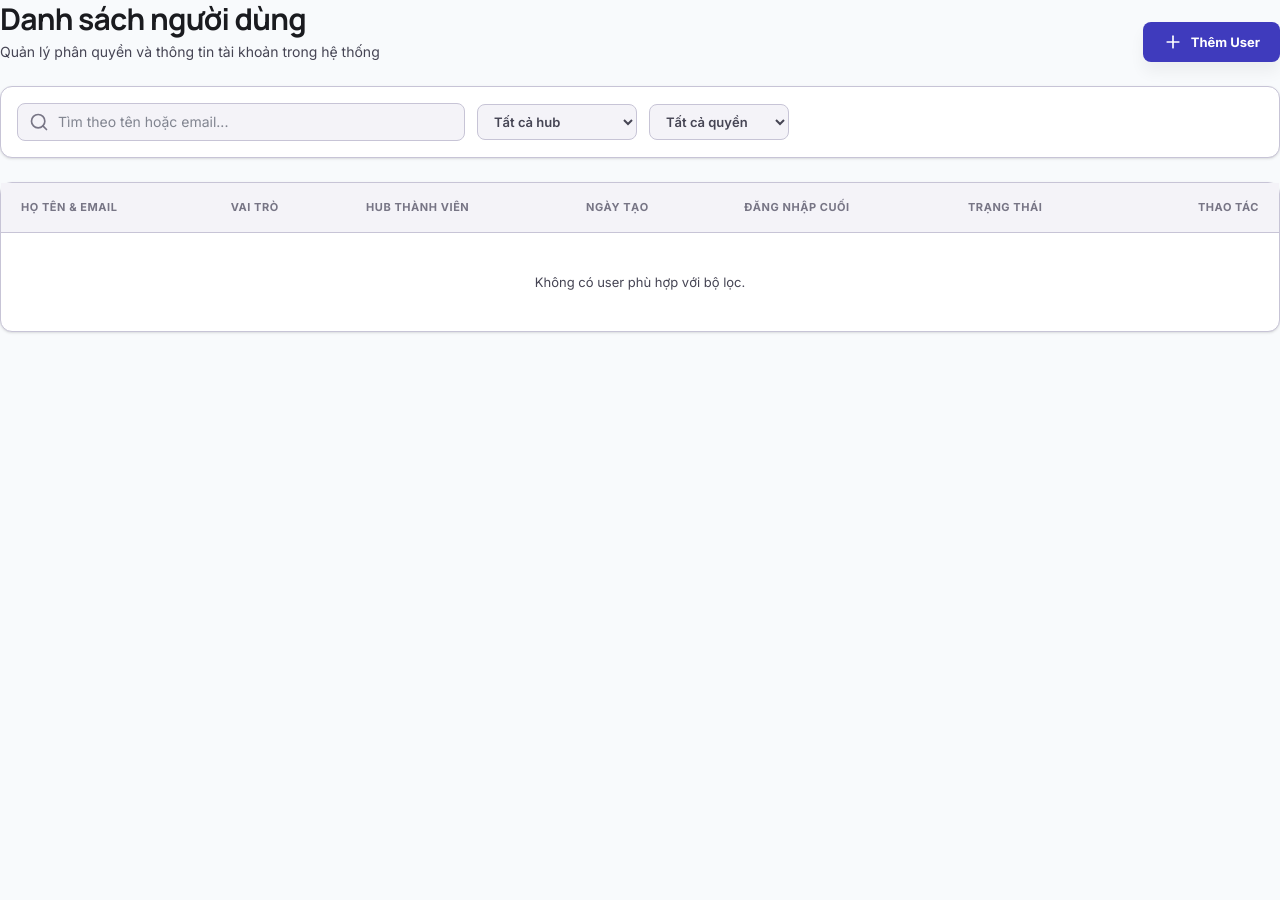
Test: Phase 3 v3.1 FE-01 — UserManagement form 3 option radio › Click "Thêm User" → modal mở + 3 radio option visible với label tiếng Việt đúng UI-SPEC §7.1
Đợi danh sách hub fetch xong + button "Thêm User" enable
Click the button "Thêm User" at (1211,42), box left=1143, top=22, right=1279, bottom=62
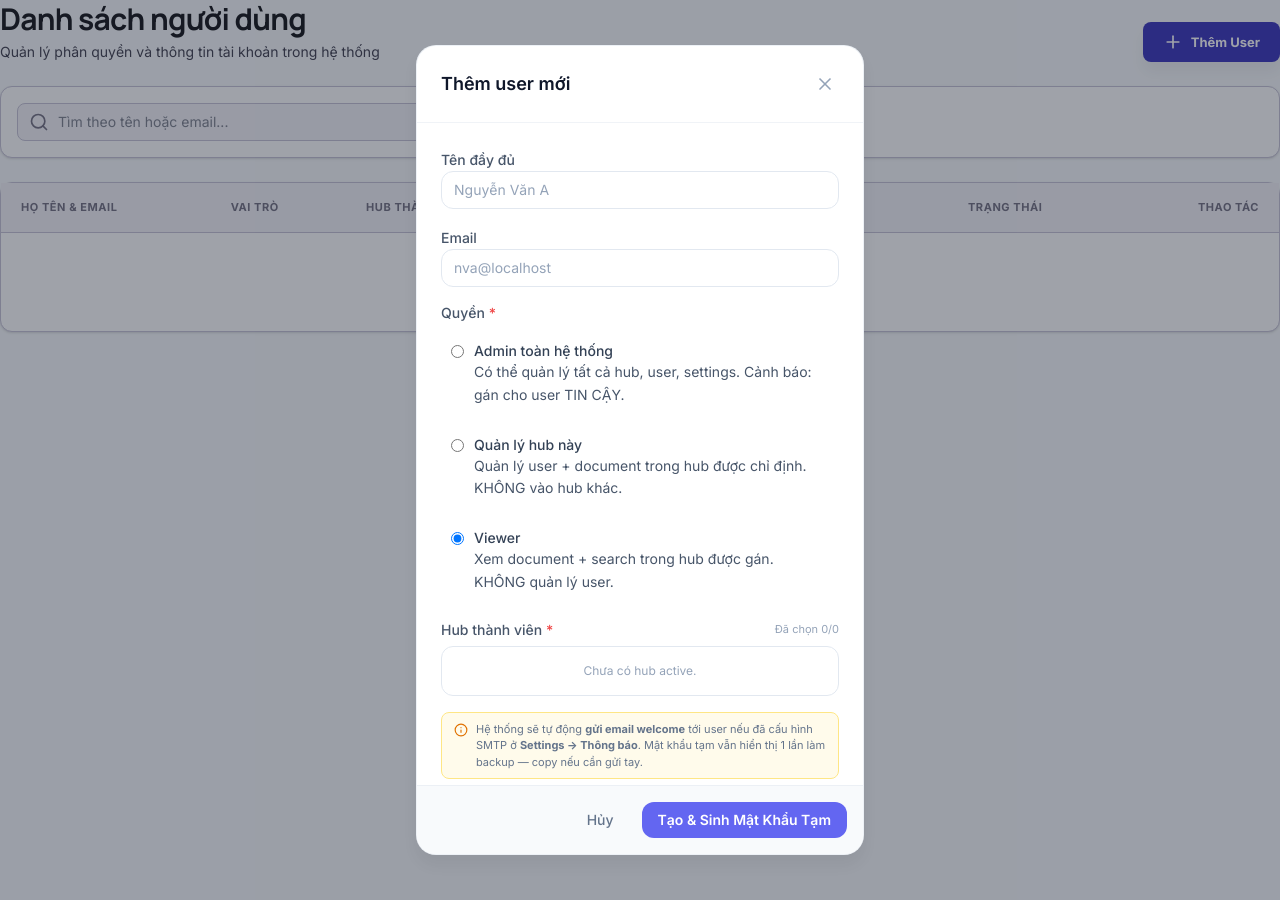
Now the text "Admin toàn hệ thống" is shown, box left=474, top=342, right=613, bottom=359
Now the text "Quản lý hub này" is shown, box left=474, top=436, right=582, bottom=452
Now the 2nd radio button is shown, box left=451, top=438, right=464, bottom=452
